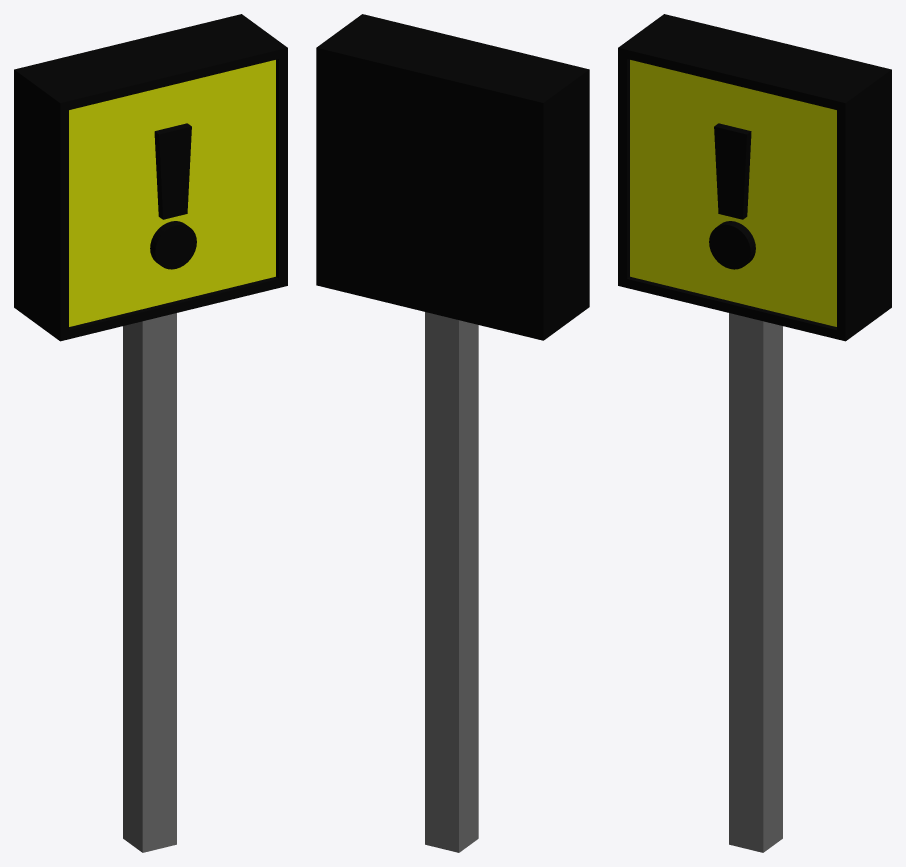
The model's file is Danjer.fbx.
The picture shows the model from 3 angles, left to right: view 1: azimuth 30°, elevation 25°; view 2: azimuth 150°, elevation 25°; view 3: azimuth 330°, elevation 25°; orthographic projection.
Visible parts, largest first — view 1: Cube; view 2: Cube; view 3: Cube.
Boxes of the visible parts, box(x1,y1,x2,y2) form: Cube: box(14, 14, 287, 852); Cube: box(316, 14, 589, 852); Cube: box(618, 14, 891, 852).
Size of the model in its own units: 391 by 1285 by 143.
